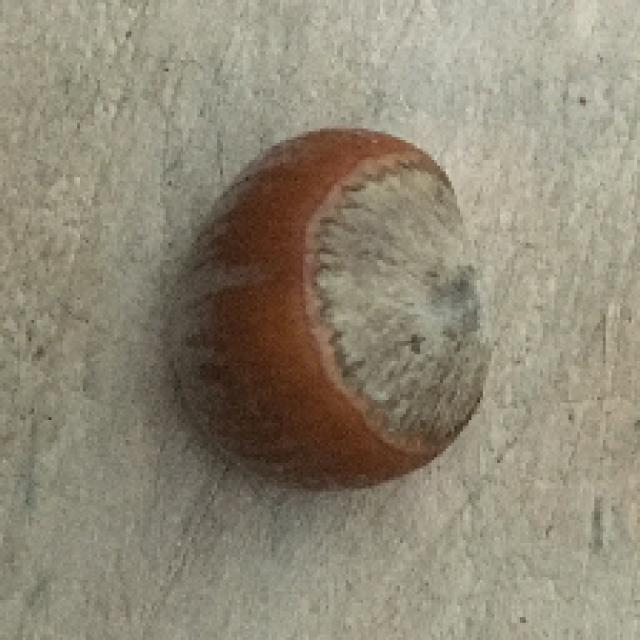QualityHazelnut: (168, 126, 494, 492)
